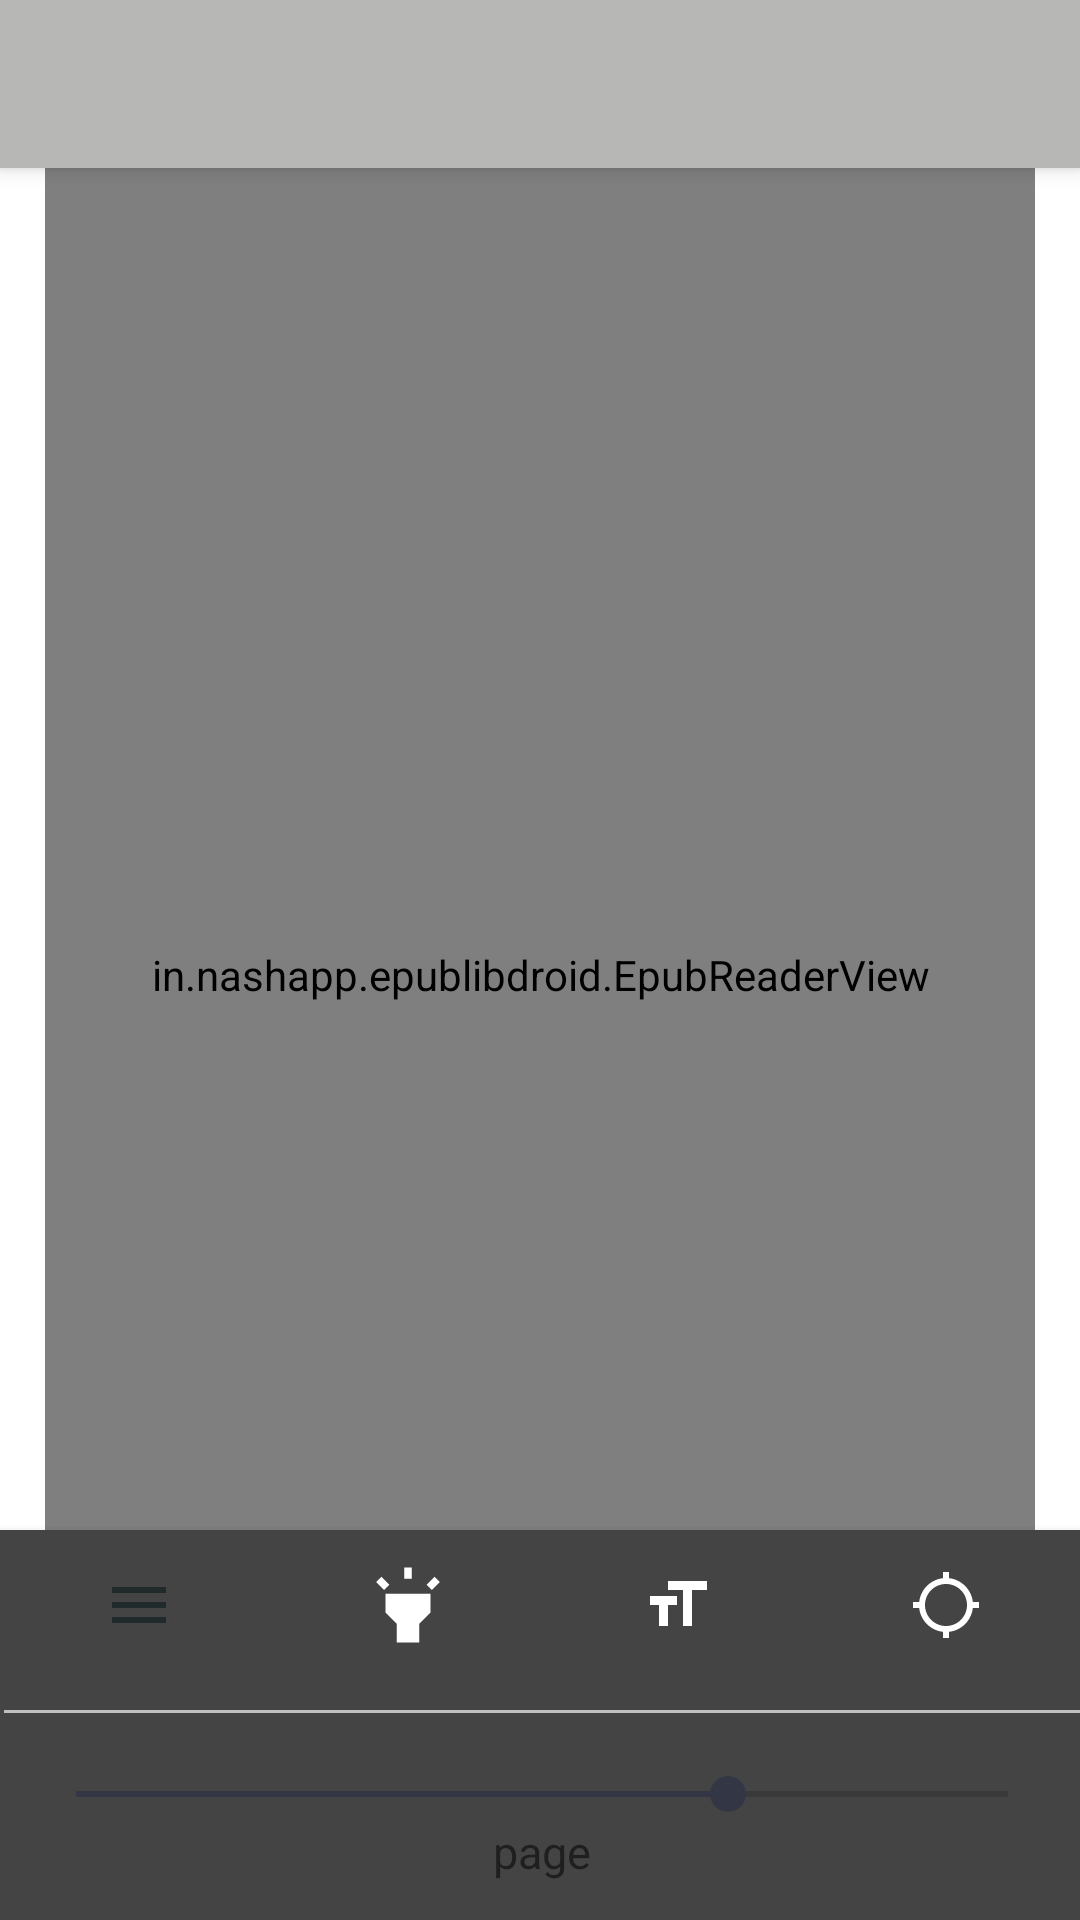

Screen size 1080 x 1920. Icon name, then its box in pixels as (x1,y1,x2,y2):
format size: (650,1581,707,1626)
highlight: (376,1567,440,1643)
location searching: (913,1572,979,1638)
menu: (112,1587,166,1623)
